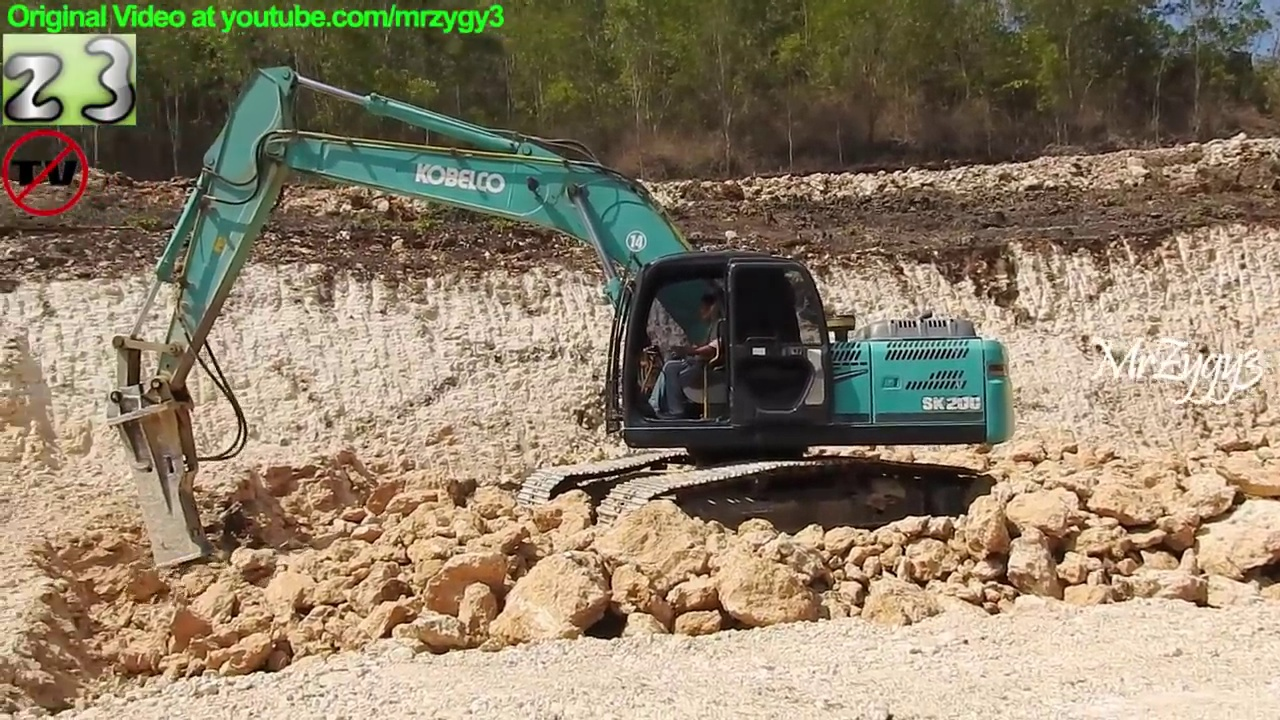excavator breaker: (102, 58, 1019, 583)
